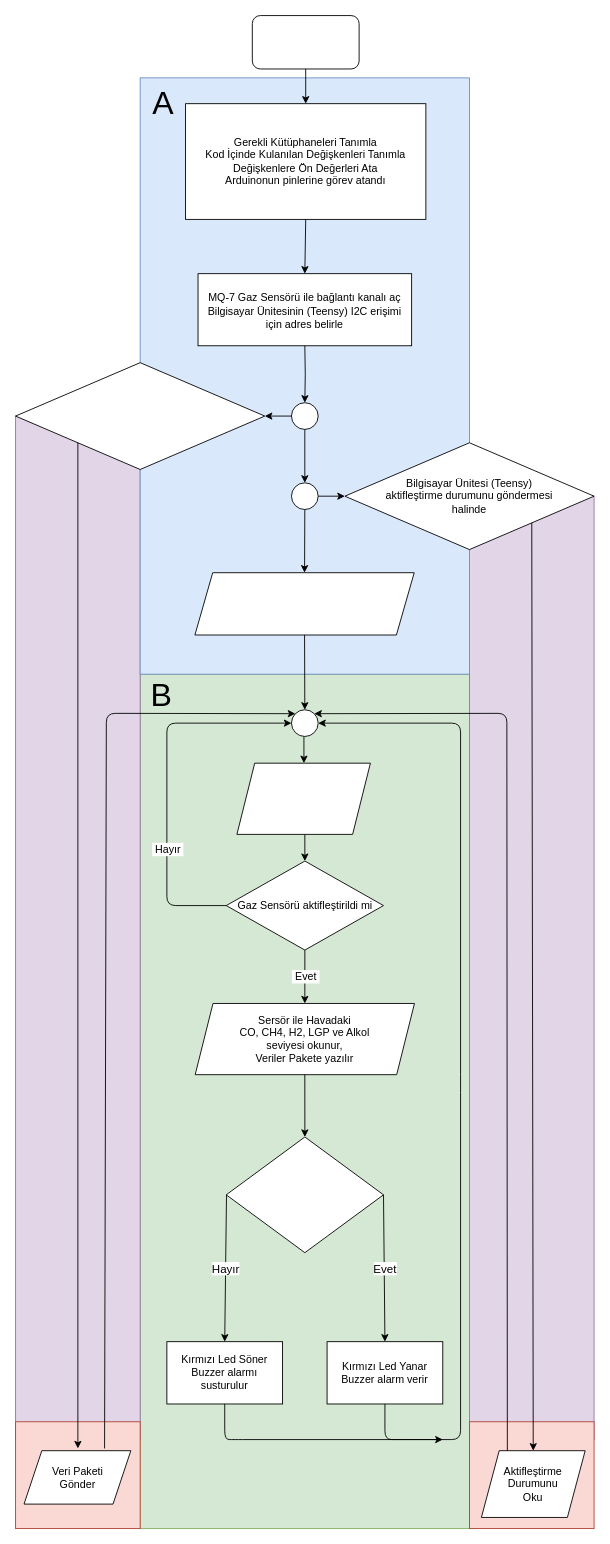
Image size: 610x1544. Some labels were removed from this diagram. The shapes that lost their labels are listed below. From the top down, each one's centre as x and y in pixels, then its label:
pixel 305 42: Başla
pixel 140 415: Bilgisayar Ünitesi (Teensy) Veri Paketi İstemesi durumunda
pixel 304 603: MQ-7 Gaz Sensörü Kalibrasyonu yapılır
pixel 303 798: Aktifleştirme Durumu Yeşil Ledin pinine yazılır
pixel 304 1194: CO veya CH4 değerleri Tehlike Limitlerini aşarsa
